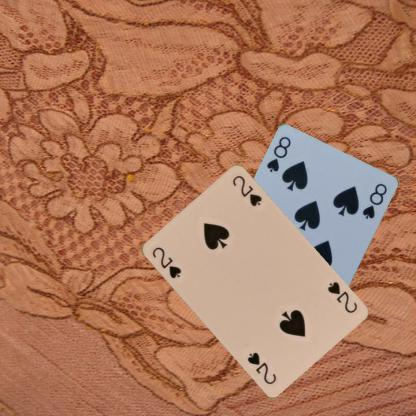2s: (149, 244, 183, 280), (325, 279, 358, 314)
8s: (264, 134, 292, 174)
